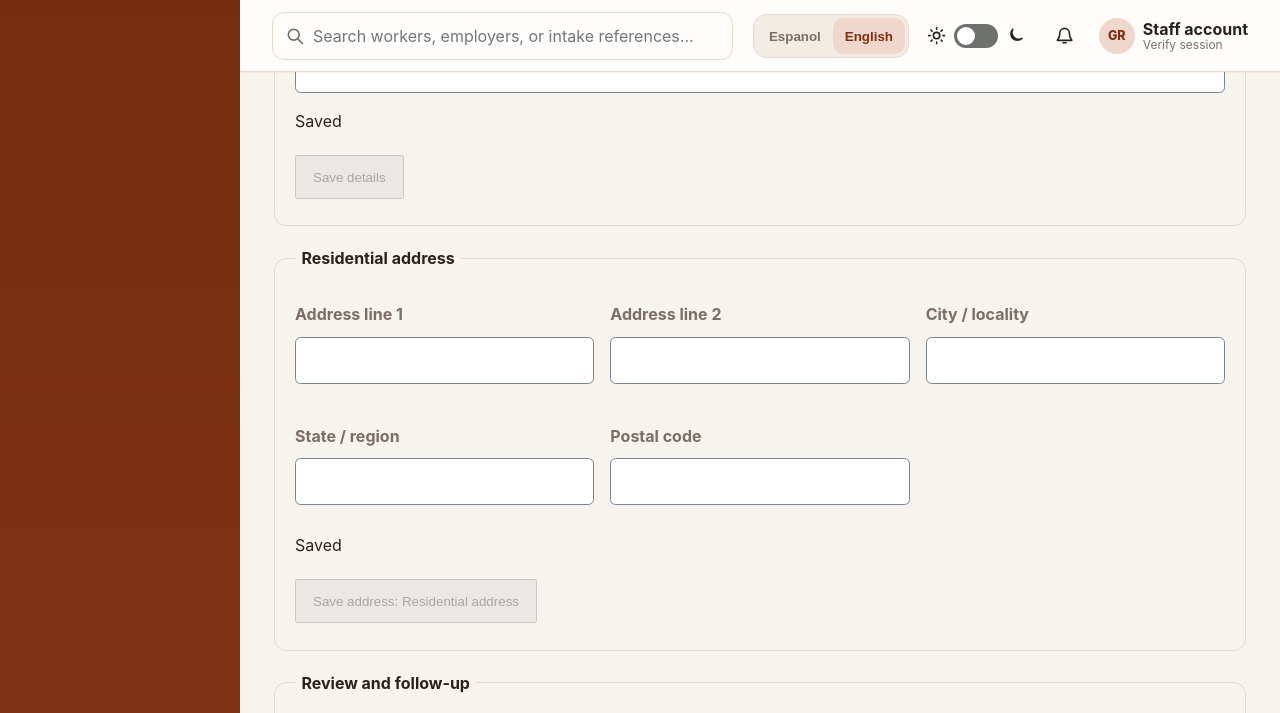
Test: staff intake drafts › retains edits made during an address save when its current section cannot be reread
The width and height of the screenshot is (1280, 713).
(page scrolled)
In the field labelled "Address line 1": (445, 360) [295,337,594,384], type "Submitted address"
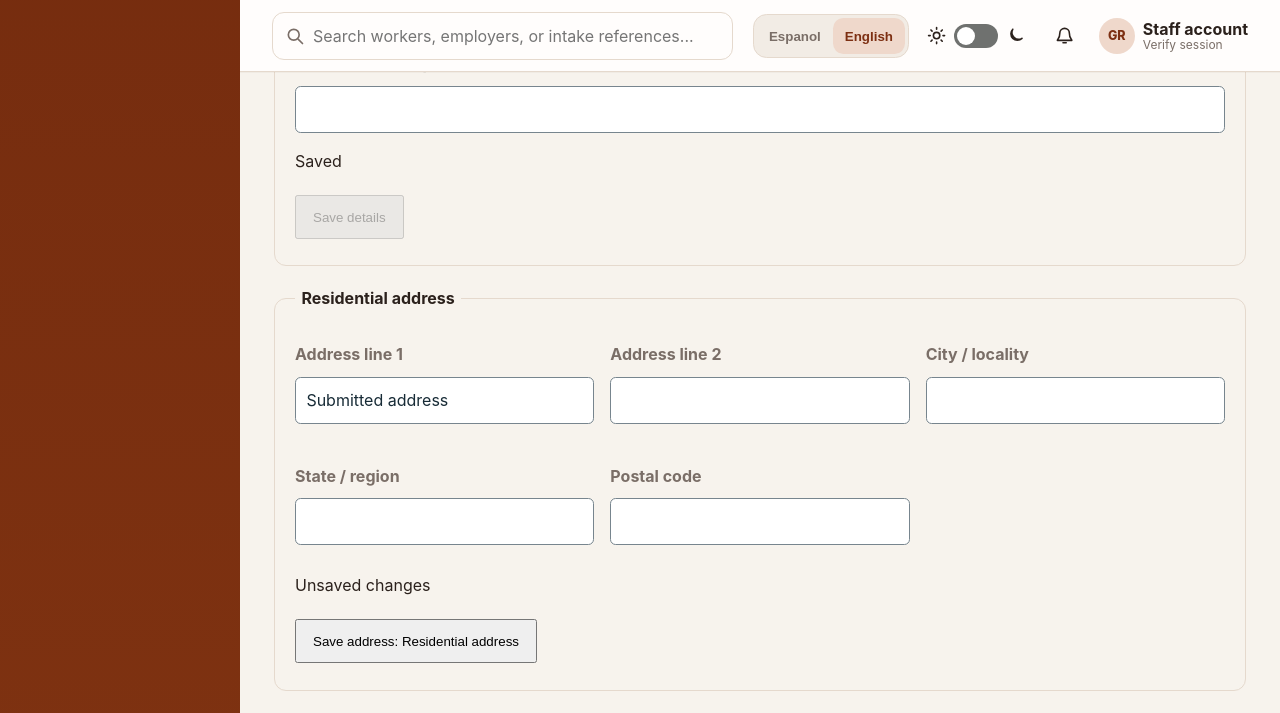
Click the button "Save address: Residential address": (416, 641) [295,619,537,663]
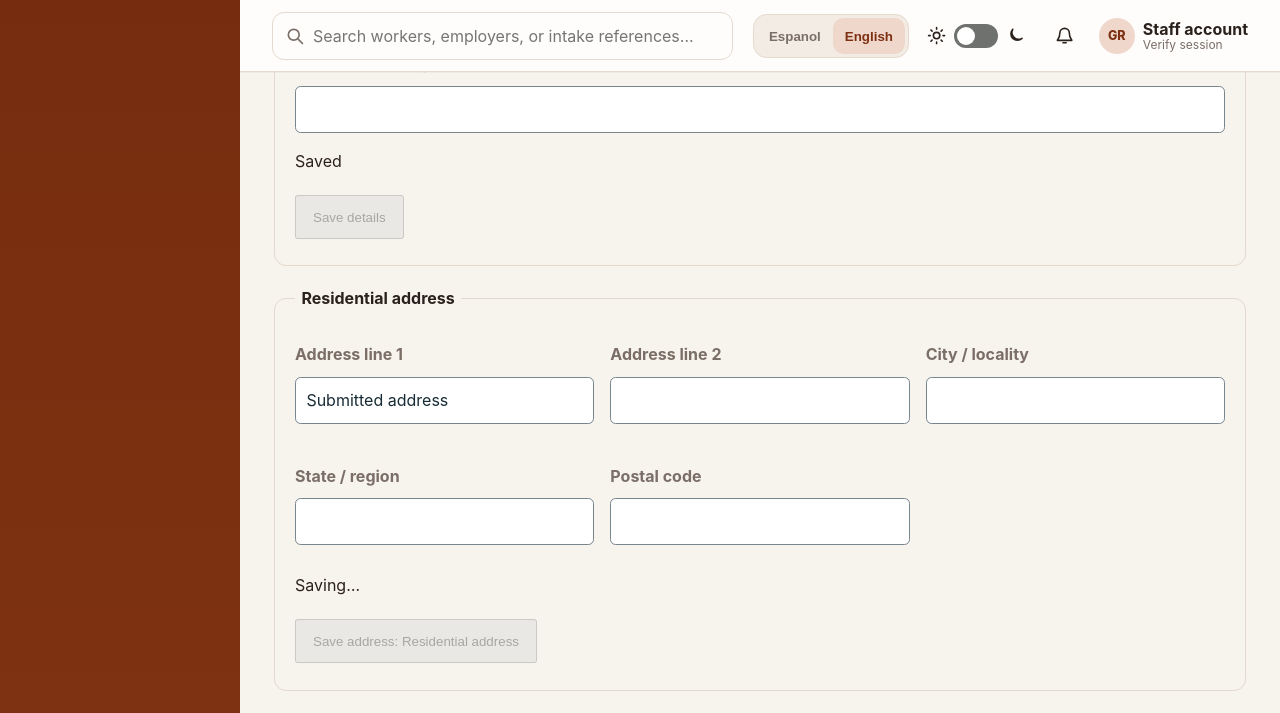
Replace the text in the field labelled "Address line 1" with "Later address": (445, 400) [295,377,594,424]
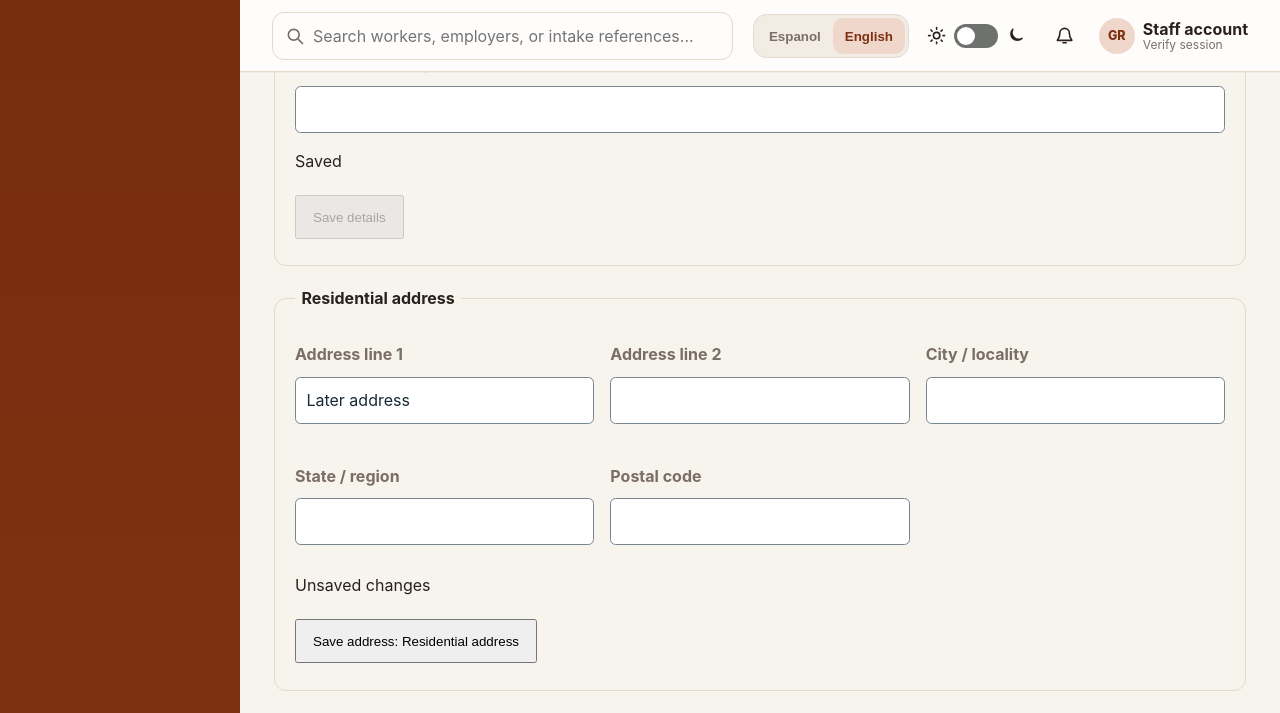
Expected: the button "Save address: Residential address" is enabled, [295,619,537,663]
